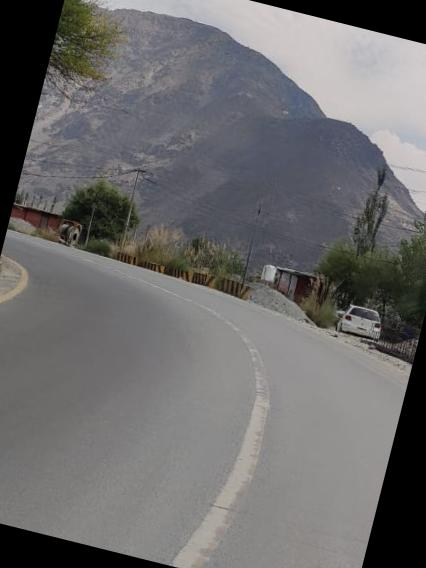right_turn: (0, 143, 388, 424)
